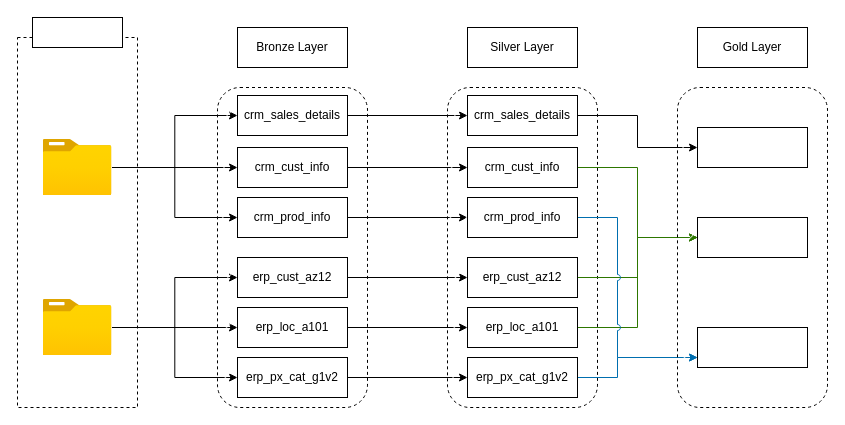
Image size: 845x425. Some labels were removed from this diagram. The shapes that lost their labels are listed below. From the top down, each one's centre as x and y in pixels, then its label:
At [77,32]: "Sources".
At [77,167]: "CRM".
At [752,147]: "fact_sales".
At [752,237]: "dim_customers".
At [77,327]: "ERP".
At [752,347]: "dim_products".
